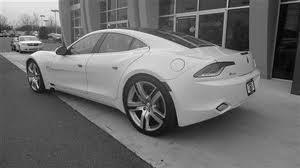car: (25, 26, 264, 139)
